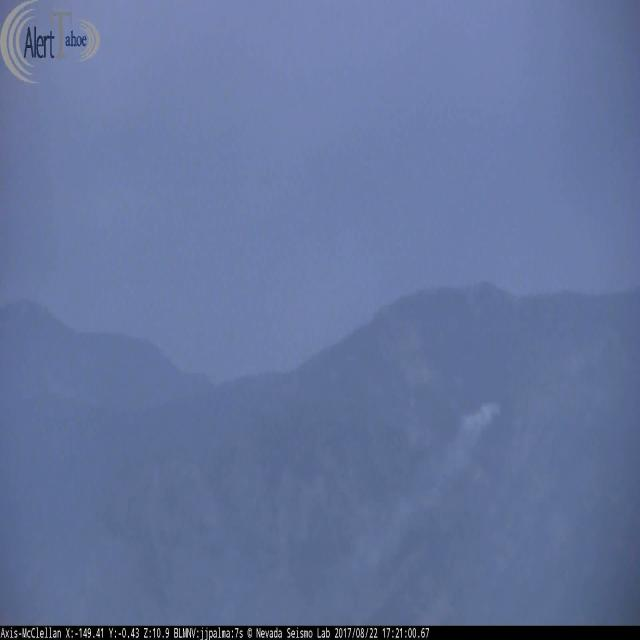smoke: (460, 402, 504, 450)
